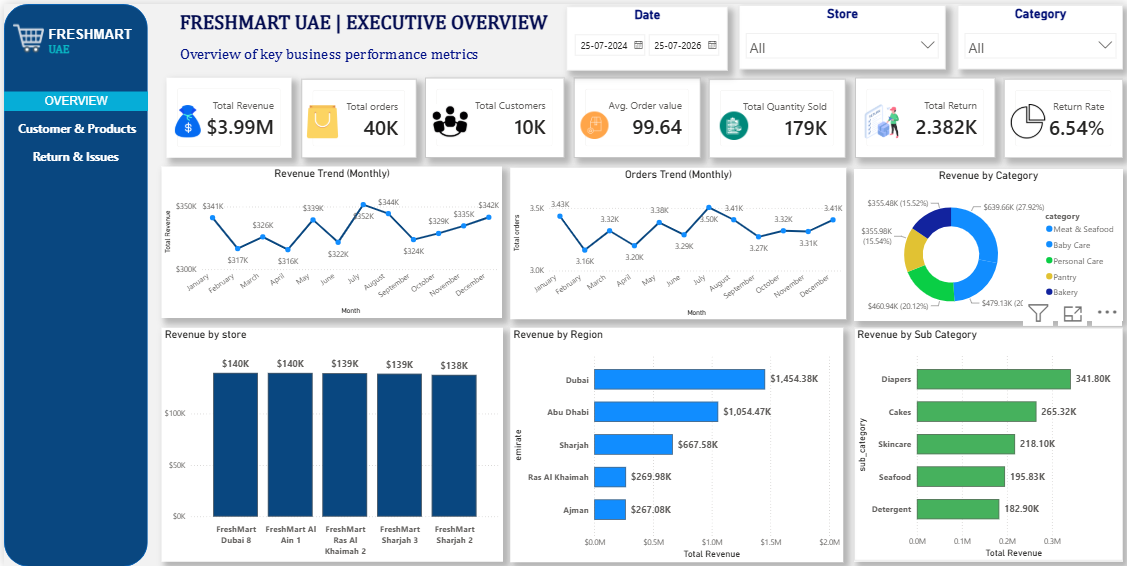

This screenshot's page, from the dashboard's own definition file:
{"tool":"powerbi","page":{"name":"Overview Page","canvas":[1800,900],"ordinal":0},"visuals":[{"type":"shape","box":[0,0,230,900],"z":0},{"type":"textbox","box":[276,8,614,102],"z":1000},{"type":"slicer","title":"Store","fields":{"Values":["stores.store_name"]},"box":[1176.7,2,330,102],"z":2000},{"type":"slicer","title":"Category","fields":{"Values":["products.category"]},"box":[1526,2,264,102],"z":3000},{"type":"cardVisual","title":"Total Revenue   ","fields":{"Data":["order_items.Total Revenue"]},"box":[260,118,200,128],"z":4000},{"type":"cardVisual","fields":{"Data":["orders.Total orders"]},"box":[475,120,184,126],"z":5000},{"type":"cardVisual","fields":{"Data":["customers.Total Customers"]},"box":[674,118,222,128],"z":6000},{"type":"cardVisual","fields":{"Data":["order_items.Avg. Order value"]},"box":[911,118,202,128],"z":7000},{"type":"cardVisual","fields":{"Data":["order_items.Total Quantity Sold"]},"box":[1128,120,218,126],"z":8000},{"type":"cardVisual","fields":{"Data":["returns.Total Return"]},"box":[1361,118,224,128],"z":9000},{"type":"cardVisual","fields":{"Data":["returns.Return Rate"]},"box":[1600,120,200,126],"z":10000},{"type":"image","box":[260,160,67.5,55],"z":11000},{"type":"image","box":[480,162.9,58.6,52.9],"z":12000},{"type":"image","box":[682.9,160,64.3,55.7],"z":13000},{"type":"image","box":[1134.3,171.4,68.6,45.7],"z":14000},{"type":"image","box":[911.4,171.4,65.7,44.3],"z":15000},{"type":"image","box":[1367.1,160,72.9,55.7],"z":16000},{"type":"image","box":[1602.5,160,72.5,55],"z":17000},{"type":"lineChart","title":"Revenue Trend (Monthly)","fields":{"Y":["order_items.Total Revenue"],"Category":["orders.order_date.Variation.Date Hierarchy.Month"]},"box":[252.5,260,545,242.5],"z":18000},{"type":"lineChart","title":"Orders Trend (Monthly)","fields":{"Category":["orders.order_date.Variation.Date Hierarchy.Month"],"Y":["orders.Total orders"]},"box":[810,262.5,537.5,242.5],"z":19000},{"type":"donutChart","title":"Revenue by Category","fields":{"Category":["products.category"],"Y":["order_items.Total Revenue"]},"box":[1360,263.3,430,243.3],"z":20000},{"type":"columnChart","title":"Revenue by store","fields":{"Category":["stores.store_name"],"Y":["order_items.Total Revenue"]},"box":[252,518,546,374],"z":21000},{"type":"clusteredBarChart","title":"Revenue by Sub Category","fields":{"Y":["order_items.Total Revenue"],"Category":["products.sub_category"]},"box":[1360,518,430,374],"z":22000},{"type":"textbox","box":[0,140,230,31.4],"z":23000},{"type":"textbox","box":[2.5,182.5,230,42.9],"z":24000},{"type":"textbox","box":[2.5,225,230,42.9],"z":25000},{"type":"textbox","box":[66,32,152,72],"z":26000},{"type":"image","box":[12,30,54,50],"z":27000},{"type":"slicer","title":"Date","fields":{"Values":["orders.order_date"]},"box":[900,3.3,257.5,102.5],"z":28000},{"type":"clusteredBarChart","title":"Revenue by Region","fields":{"Y":["order_items.Total Revenue"],"Category":["stores.emirate"]},"box":[810,517.5,532.5,375],"z":29000}]}

Visuals, with their boxes on the page's 1800x900 design canvas (x1, y1, x2, y2). These are canvas units, not pixel positions in the 1127x566 screenshot, which may show the page scaled, cropped or inside an application window:
shape: <region>0, 0, 230, 900</region>
textbox: <region>276, 8, 890, 110</region>
"Store" slicer: <region>1177, 2, 1507, 104</region>
"Category" slicer: <region>1526, 2, 1790, 104</region>
"Total Revenue   " cardVisual: <region>260, 118, 460, 246</region>
cardVisual - orders.Total orders: <region>475, 120, 659, 246</region>
cardVisual - customers.Total Customers: <region>674, 118, 896, 246</region>
cardVisual - order_items.Avg. Order value: <region>911, 118, 1113, 246</region>
cardVisual - order_items.Total Quantity Sold: <region>1128, 120, 1346, 246</region>
cardVisual - returns.Total Return: <region>1361, 118, 1585, 246</region>
cardVisual - returns.Return Rate: <region>1600, 120, 1800, 246</region>
image: <region>260, 160, 328, 215</region>
image: <region>480, 163, 539, 216</region>
image: <region>683, 160, 747, 216</region>
image: <region>1134, 171, 1203, 217</region>
image: <region>911, 171, 977, 216</region>
image: <region>1367, 160, 1440, 216</region>
image: <region>1602, 160, 1675, 215</region>
"Revenue Trend (Monthly)" lineChart: <region>252, 260, 798, 502</region>
"Orders Trend (Monthly)" lineChart: <region>810, 262, 1348, 505</region>
"Revenue by Category" donutChart: <region>1360, 263, 1790, 507</region>
"Revenue by store" columnChart: <region>252, 518, 798, 892</region>
"Revenue by Sub Category" clusteredBarChart: <region>1360, 518, 1790, 892</region>
textbox: <region>0, 140, 230, 171</region>
textbox: <region>2, 182, 232, 225</region>
textbox: <region>2, 225, 232, 268</region>
textbox: <region>66, 32, 218, 104</region>
image: <region>12, 30, 66, 80</region>
"Date" slicer: <region>900, 3, 1158, 106</region>
"Revenue by Region" clusteredBarChart: <region>810, 518, 1342, 892</region>
